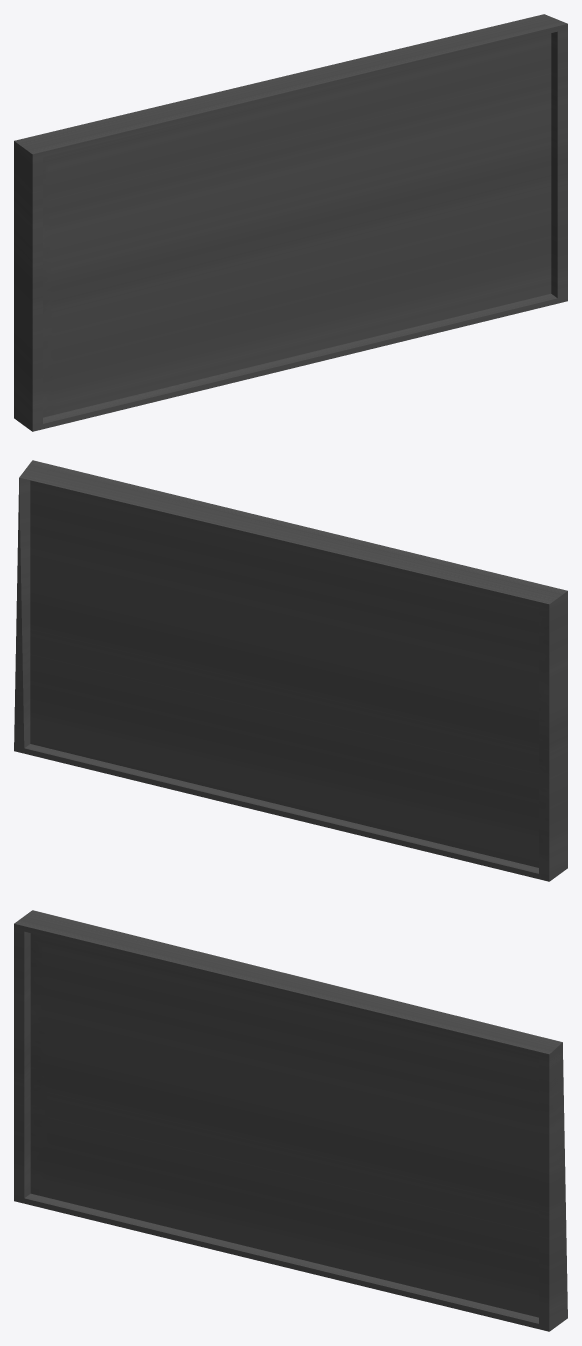
The picture shows the model from 3 angles, top to bottom: view 1: azimuth 30°, elevation 25°; view 2: azimuth 150°, elevation 25°; view 3: azimuth 330°, elevation 25°; orthographic projection.
Parts seen in each view (by area): view 1: Cube; view 2: Cube; view 3: Cube.
Part boxes in pixels (left/top/right/bottom): Cube: left=14, top=14, right=567, bottom=431; Cube: left=14, top=460, right=567, bottom=881; Cube: left=14, top=910, right=567, bottom=1331.
Size of the model in its own units: 304 by 151 by 18.22.
1 material, 1 textured.
